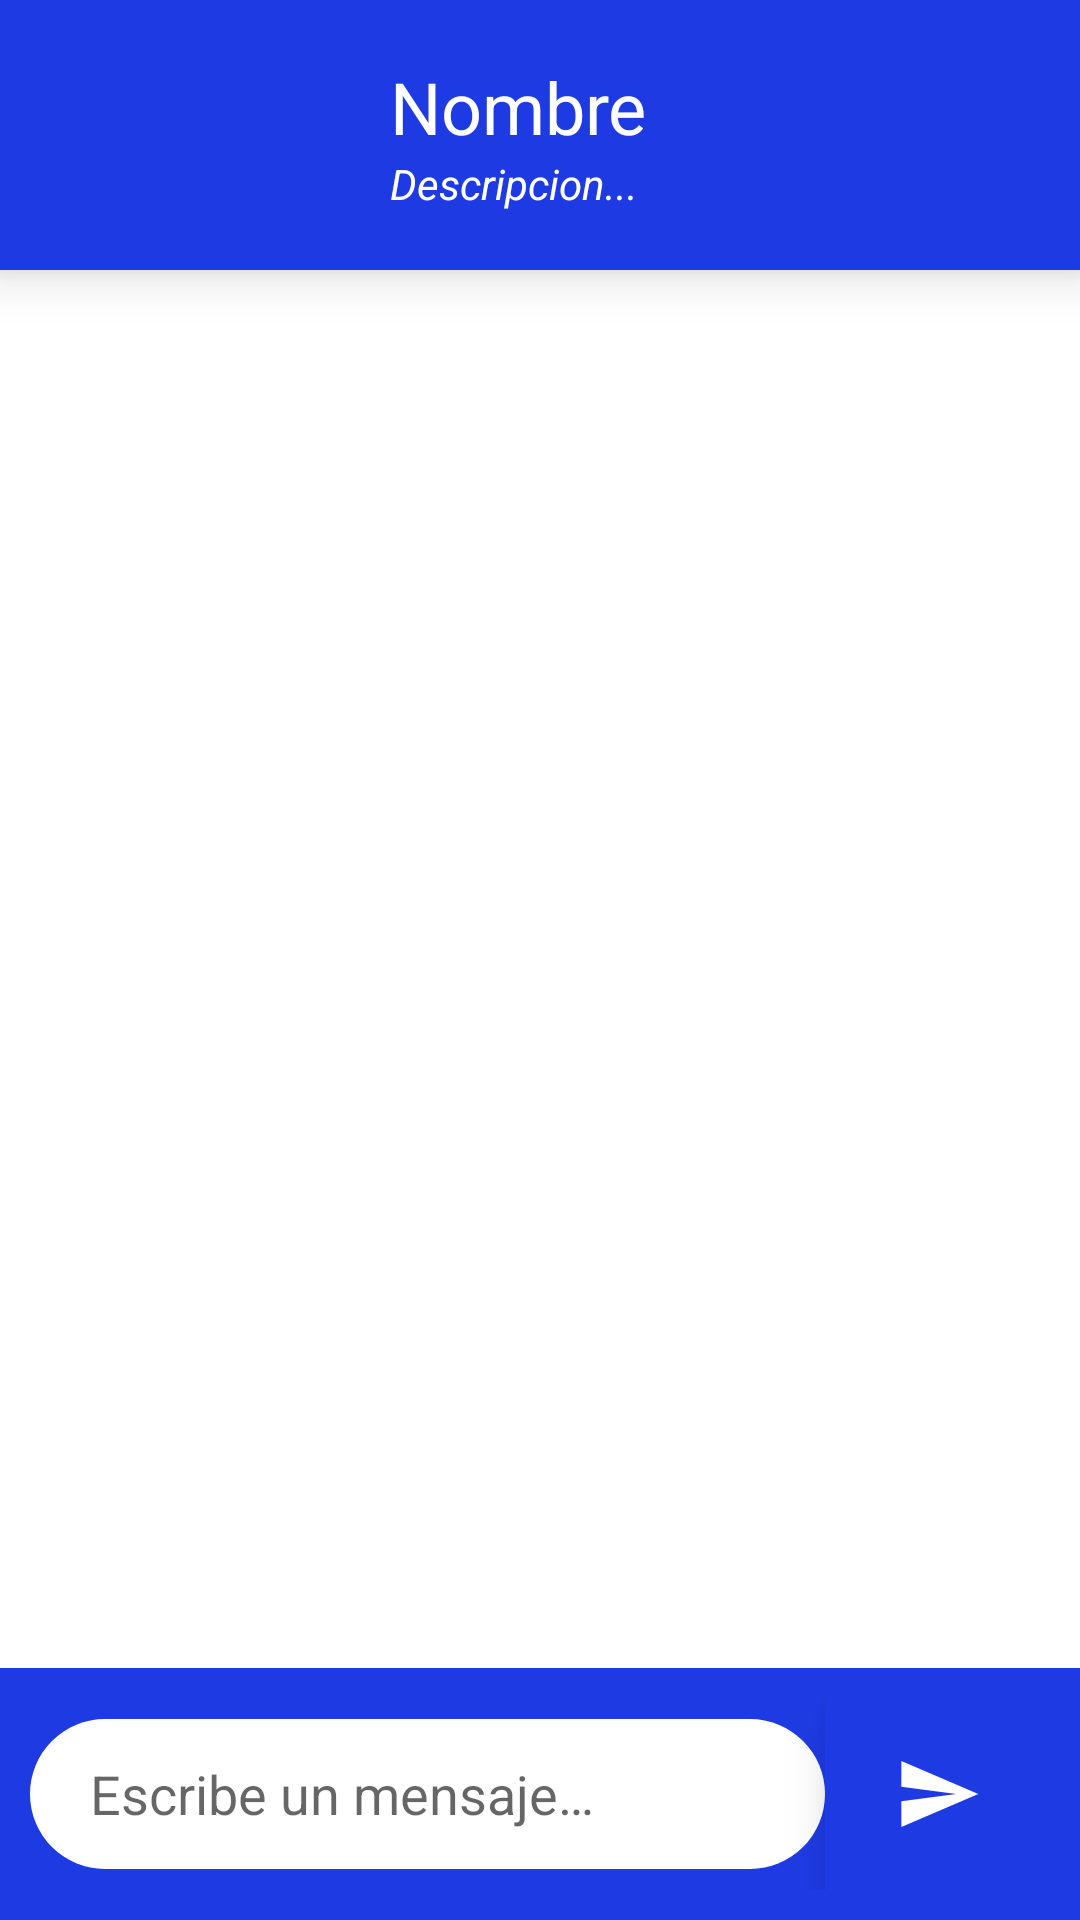

Named icons in this screenshot (1080x1920) and their centers, (x=x, y=y):
enviar: (x=939, y=1794)
